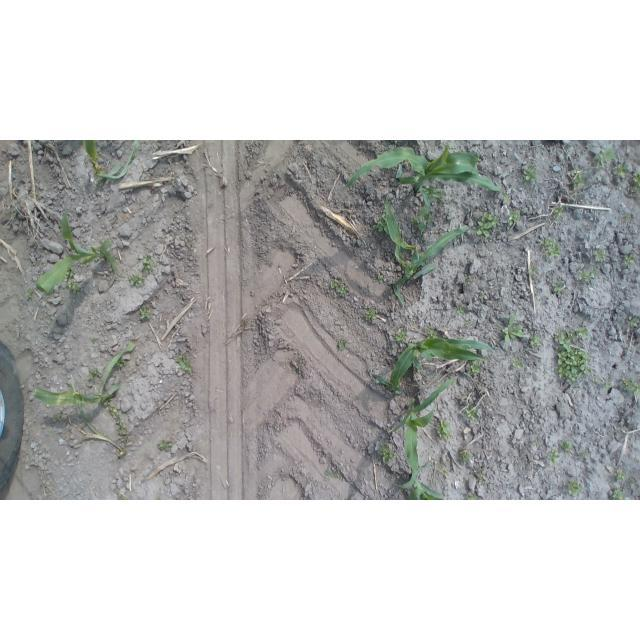Maize: (343, 143, 515, 210), (381, 195, 473, 311), (33, 337, 137, 430), (388, 375, 461, 489), (32, 211, 125, 297), (376, 333, 499, 396), (79, 141, 142, 181), (403, 480, 449, 501)
Weeds: (552, 326, 593, 384), (501, 315, 525, 343), (477, 211, 500, 237), (413, 205, 435, 232), (427, 186, 460, 204), (540, 237, 561, 260), (594, 149, 617, 168), (435, 418, 452, 442), (292, 358, 313, 377), (175, 354, 197, 372), (610, 161, 632, 179), (378, 444, 396, 465), (471, 466, 490, 485), (328, 277, 346, 297), (578, 266, 599, 282), (622, 377, 640, 395), (506, 208, 522, 228), (136, 306, 155, 322), (550, 279, 566, 297), (66, 279, 85, 294), (373, 220, 392, 235), (87, 366, 104, 382), (569, 173, 585, 190), (325, 466, 343, 481), (141, 254, 156, 272), (116, 420, 130, 439), (128, 274, 148, 287), (467, 361, 483, 377), (614, 471, 631, 486), (107, 404, 121, 422), (157, 439, 174, 453), (546, 447, 560, 464), (461, 408, 479, 421), (566, 480, 581, 495), (335, 338, 349, 353), (393, 328, 407, 343), (423, 324, 438, 338), (523, 168, 537, 183), (458, 450, 472, 465), (621, 252, 635, 266), (610, 486, 624, 500), (592, 249, 605, 264), (529, 332, 542, 347), (561, 440, 576, 453), (186, 236, 197, 253), (627, 315, 640, 329), (631, 172, 640, 192), (363, 309, 376, 322), (552, 204, 565, 217), (116, 357, 130, 369), (526, 265, 541, 276), (462, 491, 480, 500), (455, 305, 471, 315), (511, 357, 525, 368), (460, 319, 475, 329), (23, 289, 34, 301), (603, 380, 613, 393), (436, 463, 449, 473), (583, 450, 593, 460), (532, 439, 542, 449), (478, 290, 487, 300), (464, 274, 473, 284), (514, 462, 525, 470), (116, 494, 130, 500), (591, 376, 601, 384), (378, 275, 387, 283), (68, 268, 76, 276), (90, 336, 99, 343)
